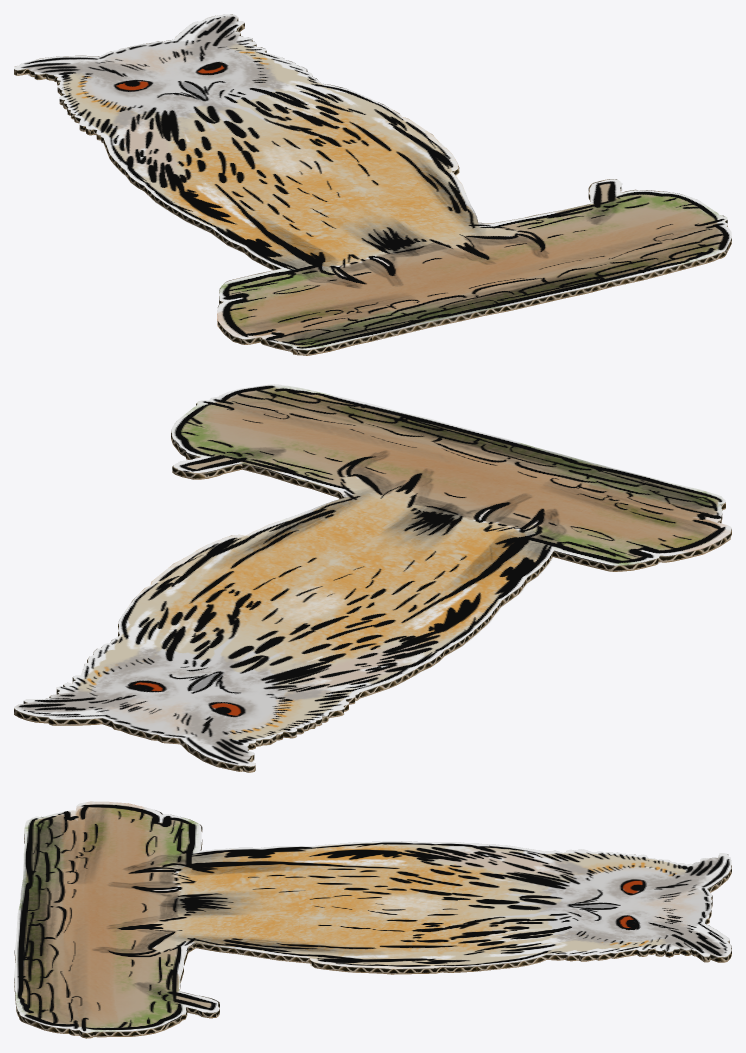
File: owlMute.fbx
3 views of the same model, one above another, from view 1: azimuth 30°, elevation 25°; view 2: azimuth 150°, elevation 25°; view 3: azimuth 270°, elevation 25° (orthographic). The views are drawn at different scales.
Visible parts, largest first — view 1: Plane; view 2: Plane; view 3: Plane.
Part boxes in pixels (box(x1,y1,x2,y2)): Plane: box(14, 14, 731, 355); Plane: box(14, 384, 731, 772); Plane: box(14, 801, 731, 1038).
Size of the model in its own units: 4.51 by 0.05 by 5.91.
